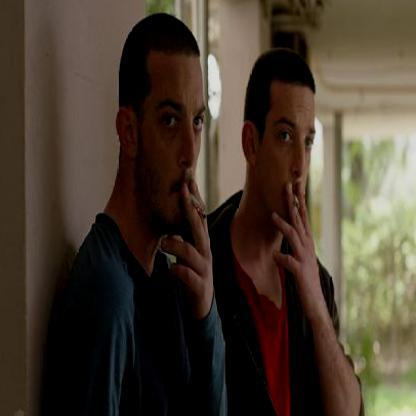cigarette: (189, 192, 207, 222), (294, 192, 300, 210)
person: (48, 6, 226, 415), (210, 48, 329, 415)
